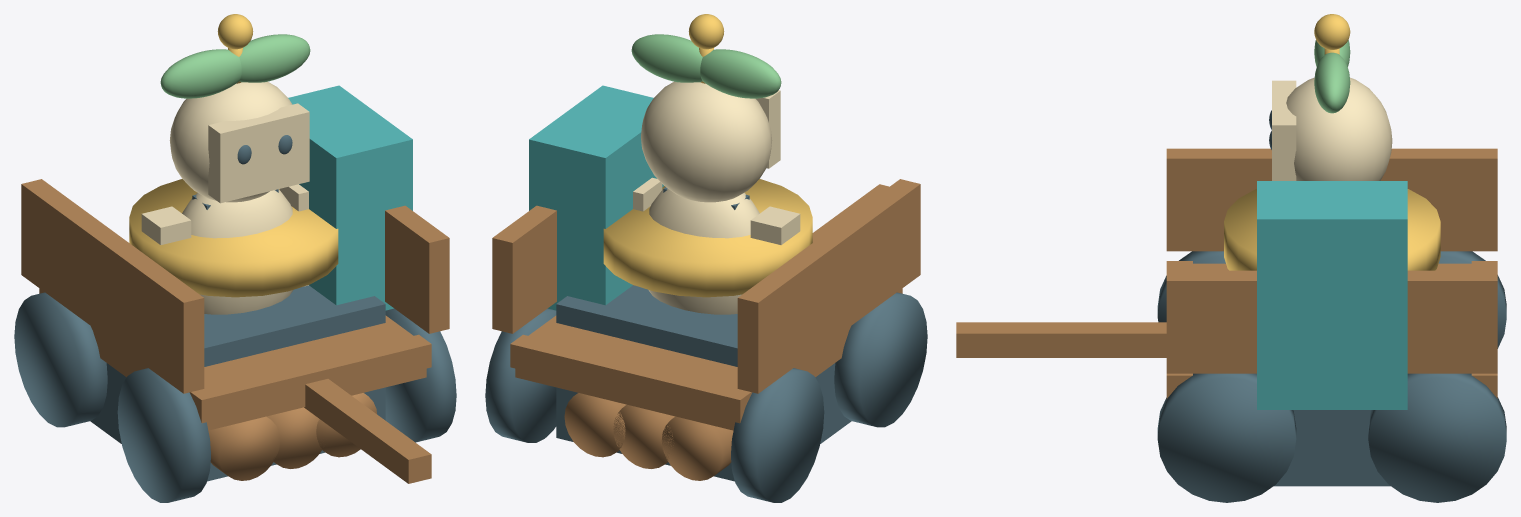
File: harbor.glb
3 views of the same model, side by side, from view 1: azimuth 30°, elevation 25°; view 2: azimuth 150°, elevation 25°; view 3: azimuth 270°, elevation 25° (orthographic).
Visible parts, largest first — view 1: side rail, housing, cart bed, flywheel, machine base, wheel, wheel.001, cream faceplate, side rail.001, head.002, draw bar, wheel.002 (+9 smaller); view 2: side rail, housing, cart bed, flywheel, head.002, machine base, wheel.001, wheel, side rail.001, wheel.003, body.002, stacked log (+9 smaller); view 3: housing, side rail.001, side rail, wheel.003, wheel.002, head.002, draw bar, machine base, flywheel, cream faceplate, cart bed, leaf.001 (+3 smaller).
Part boxes in pixels (x1,y1,x2,y2): side rail: [21, 179, 204, 393]; housing: [288, 85, 412, 310]; cart bed: [39, 288, 431, 430]; flywheel: [129, 179, 338, 297]; machine base: [90, 285, 385, 481]; wheel: [117, 368, 210, 502]; wheel.001: [14, 292, 107, 427]; cream faceplate: [208, 103, 309, 203]; side rail.001: [385, 205, 449, 333]; head.002: [169, 81, 292, 202]; draw bar: [304, 379, 431, 483]; wheel.002: [385, 308, 456, 442]; side rail: [737, 179, 920, 393]; housing: [529, 85, 663, 310]; cart bed: [510, 288, 902, 430]; flywheel: [603, 179, 812, 297]; head.002: [641, 81, 772, 202]; machine base: [556, 285, 851, 481]; wheel.001: [731, 368, 824, 502]; wheel: [834, 292, 927, 427]; side rail.001: [492, 205, 556, 333]; wheel.003: [485, 308, 556, 442]; body.002: [648, 187, 759, 314]; stacked log: [661, 416, 733, 480]; housing: [1257, 181, 1407, 409]; side rail.001: [1166, 270, 1497, 373]; side rail: [1166, 148, 1497, 251]; wheel.003: [1368, 373, 1506, 502]; wheel.002: [1157, 373, 1296, 502]; head.002: [1286, 77, 1392, 180]; draw bar: [956, 322, 1166, 357]; machine base: [1274, 410, 1390, 486]; flywheel: [1224, 189, 1440, 270]; cream faceplate: [1272, 80, 1296, 180]; cart bed: [1166, 261, 1497, 398]; leaf.001: [1314, 52, 1350, 113].
Bounding box in the file's own units: 1.08 × 1.57 × 1.83.
